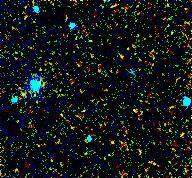star: (9, 78, 39, 108)
